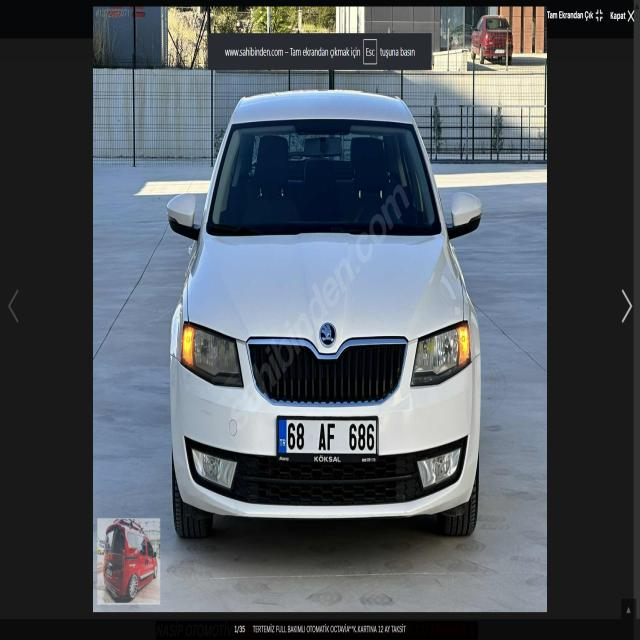skoda: (319, 321, 338, 348)
